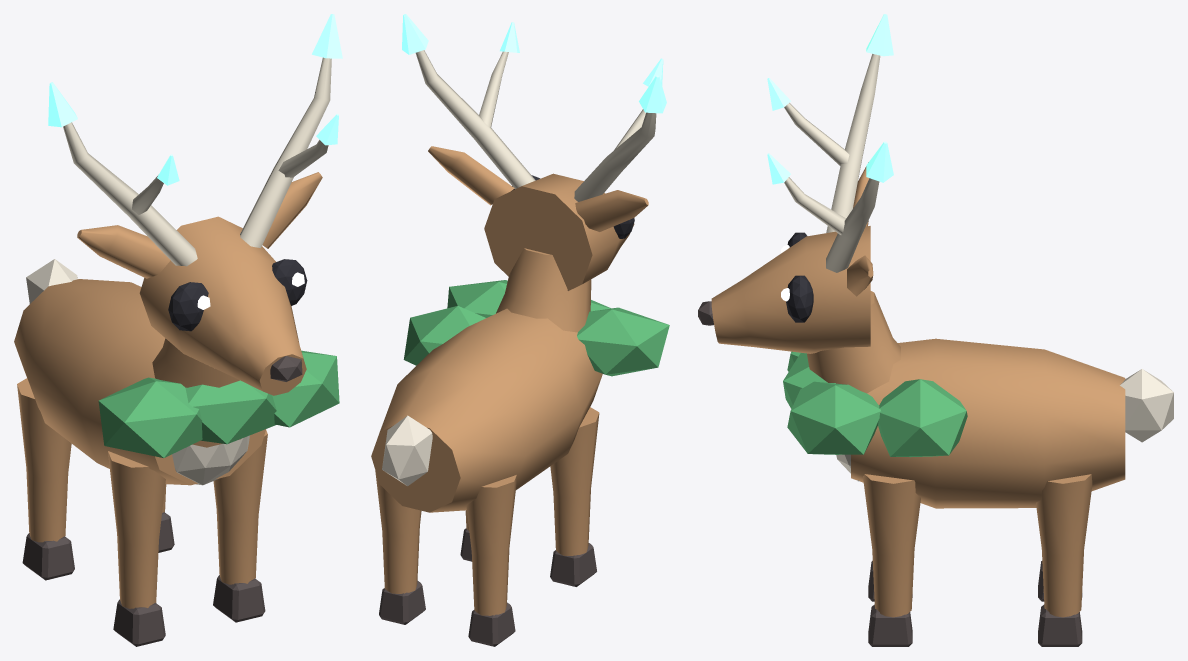
The model's file is ThornStag.glb.
The picture shows the model from 3 angles, left to right: view 1: azimuth 30°, elevation 25°; view 2: azimuth 150°, elevation 25°; view 3: azimuth 270°, elevation 25°; orthographic projection. The views are drawn at different scales.
Parts seen in each view (by area): view 1: ThornStag; view 2: ThornStag; view 3: ThornStag.
Part boxes in pixels (x1,y1,x2,y2): ThornStag: (14, 14, 342, 646); ThornStag: (371, 14, 669, 646); ThornStag: (698, 14, 1173, 646).
Size of the model in its own units: 2.21 by 4.22 by 3.37.
